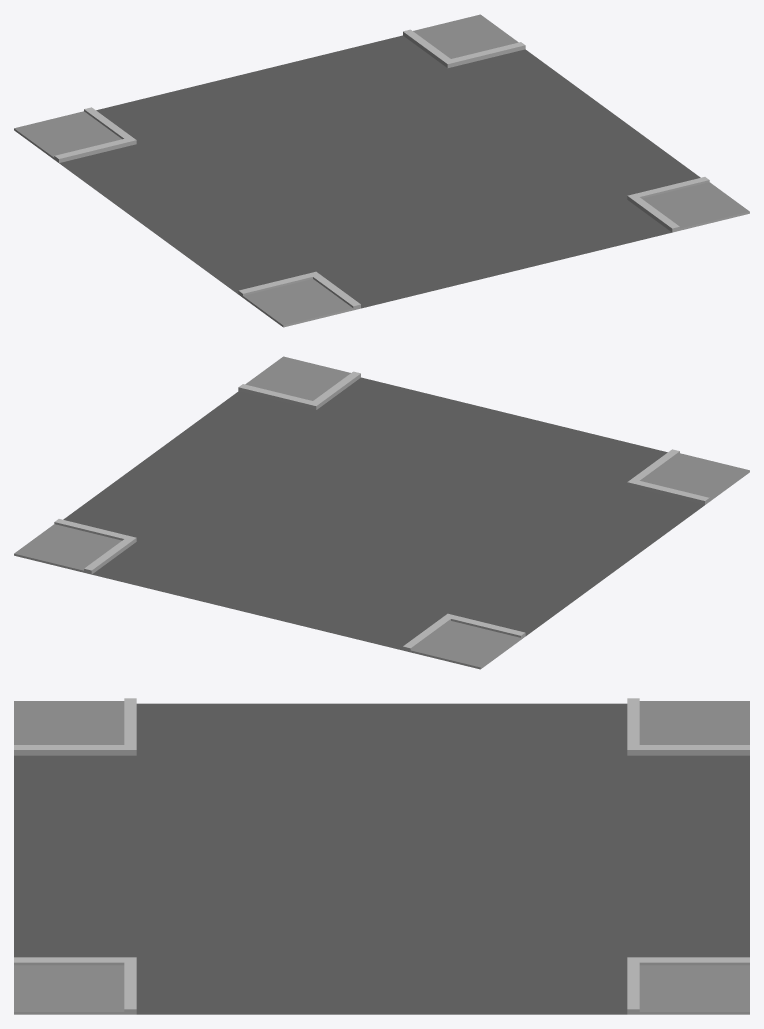
Rendered from street_4cross4.fbx.
The picture shows the model from 3 angles, top to bottom: view 1: azimuth 30°, elevation 25°; view 2: azimuth 150°, elevation 25°; view 3: azimuth 270°, elevation 25°; orthographic projection. The views are drawn at different scales.
Visible parts, largest first — view 1: street_4cross4; view 2: street_4cross4; view 3: street_4cross4.
Part boxes in pixels (x1,y1,x2,y2): street_4cross4: (14, 14, 749, 327); street_4cross4: (14, 356, 749, 669); street_4cross4: (14, 698, 749, 1014).
Size of the model in its own units: 24 by 0.2 by 24.
